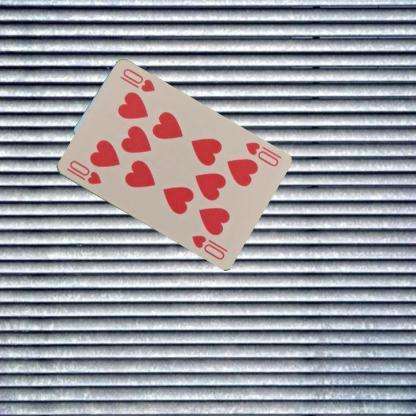10h: (242, 139, 280, 168), (66, 157, 102, 186)
